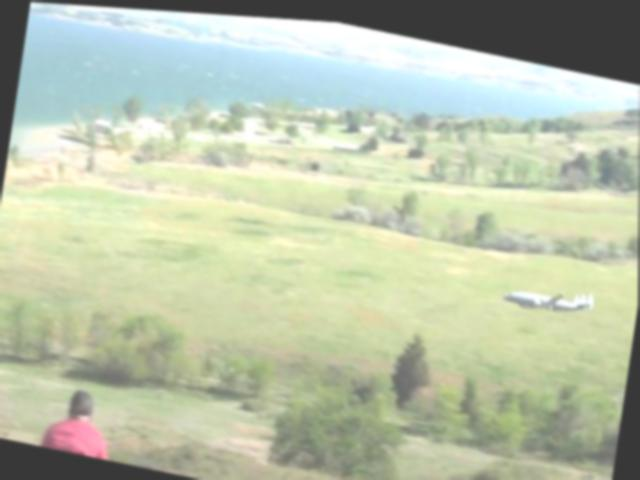iha: (500, 267, 599, 319)
